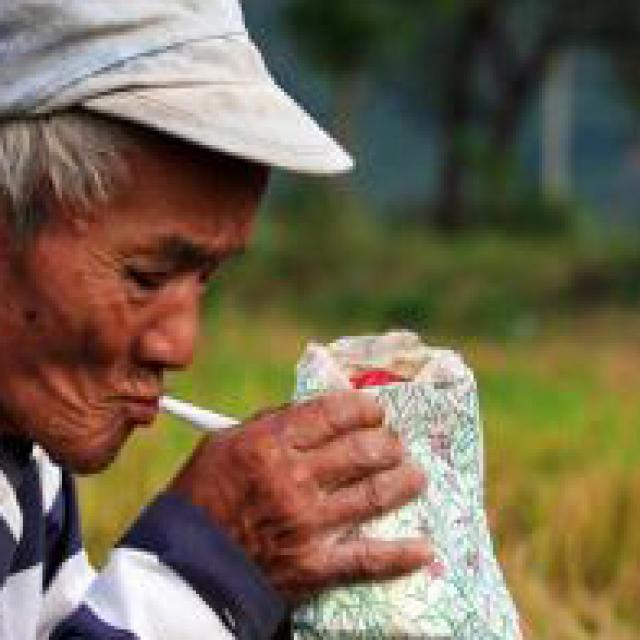smoking: (152, 396, 269, 440)
